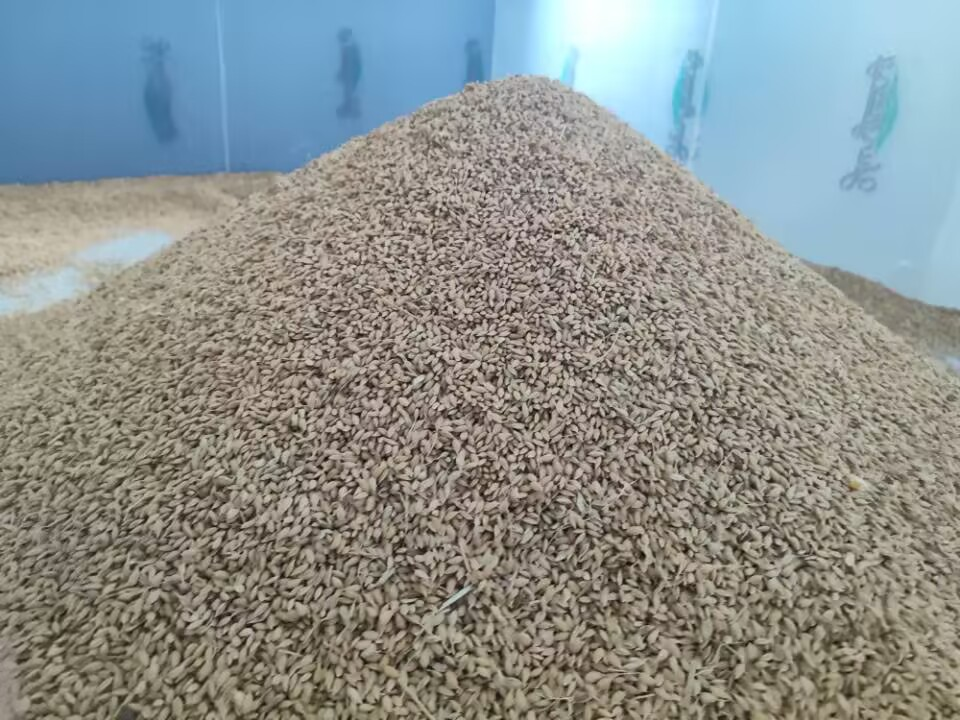Grain: (185, 66, 797, 654)
